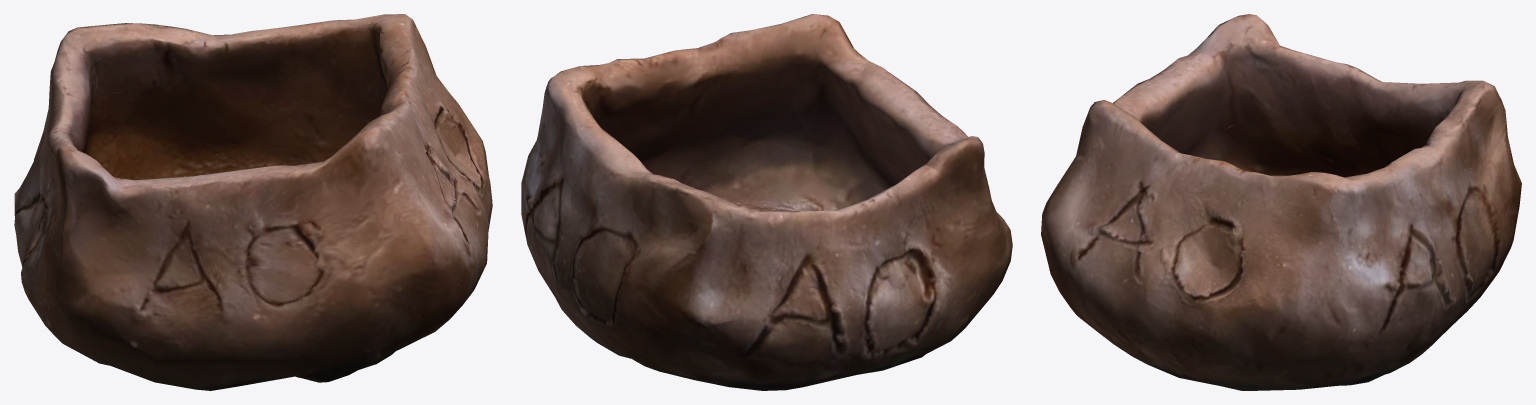
File: dye-pot.glb
3 views of the same model, side by side, from view 1: azimuth 30°, elevation 25°; view 2: azimuth 150°, elevation 25°; view 3: azimuth 270°, elevation 25° (orthographic). The views are drawn at different scales.
Visible parts, largest first — view 1: Object_2; view 2: Object_2; view 3: Object_2.
Boxes of the visible parts, box(x1,y1,x2,y2) form: Object_2: box(14, 14, 492, 390); Object_2: box(521, 14, 1012, 390); Object_2: box(1041, 14, 1521, 390).
Size of the model in its own units: 0.5877 by 0.32 by 0.5762.
1 material, 1 textured.
